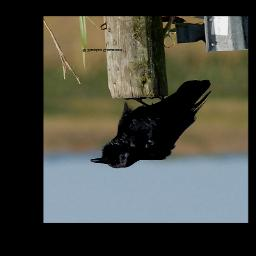Crow: (90, 78, 214, 169)
